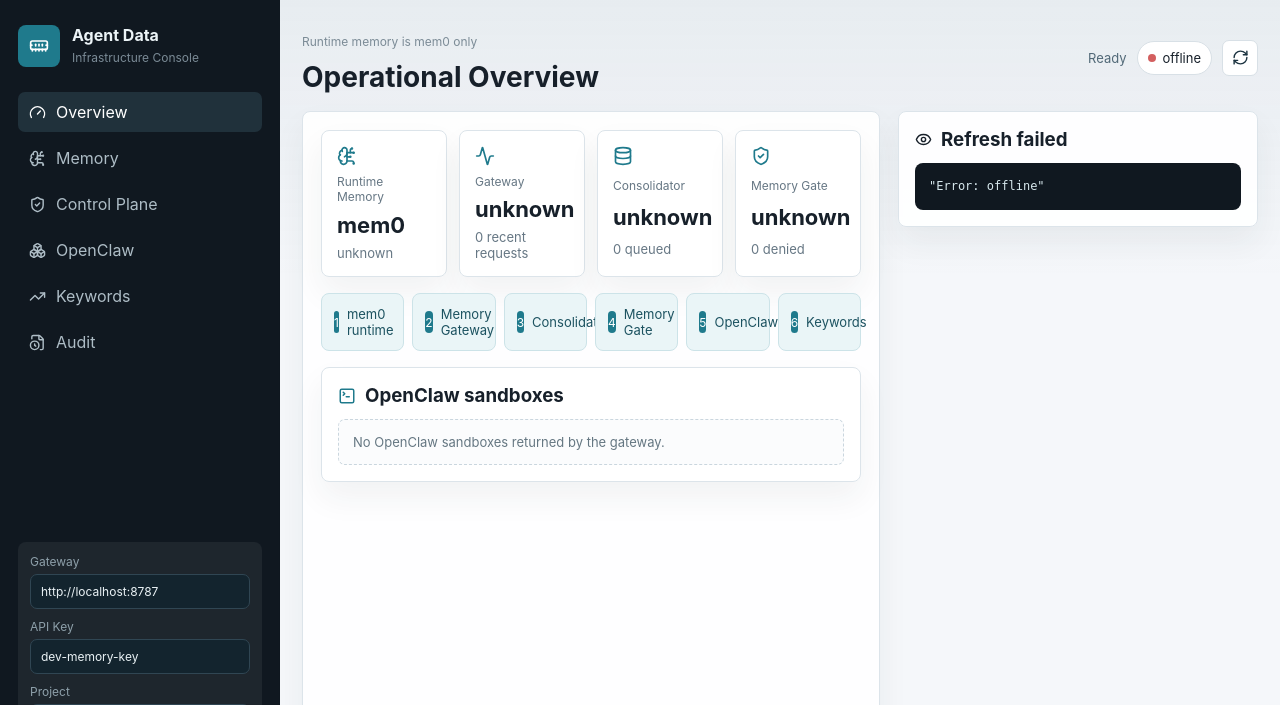
Test: App › opens the OpenClaw sandbox management tab
Click the button "OpenClaw": [140, 250] box [18,230,262,270]
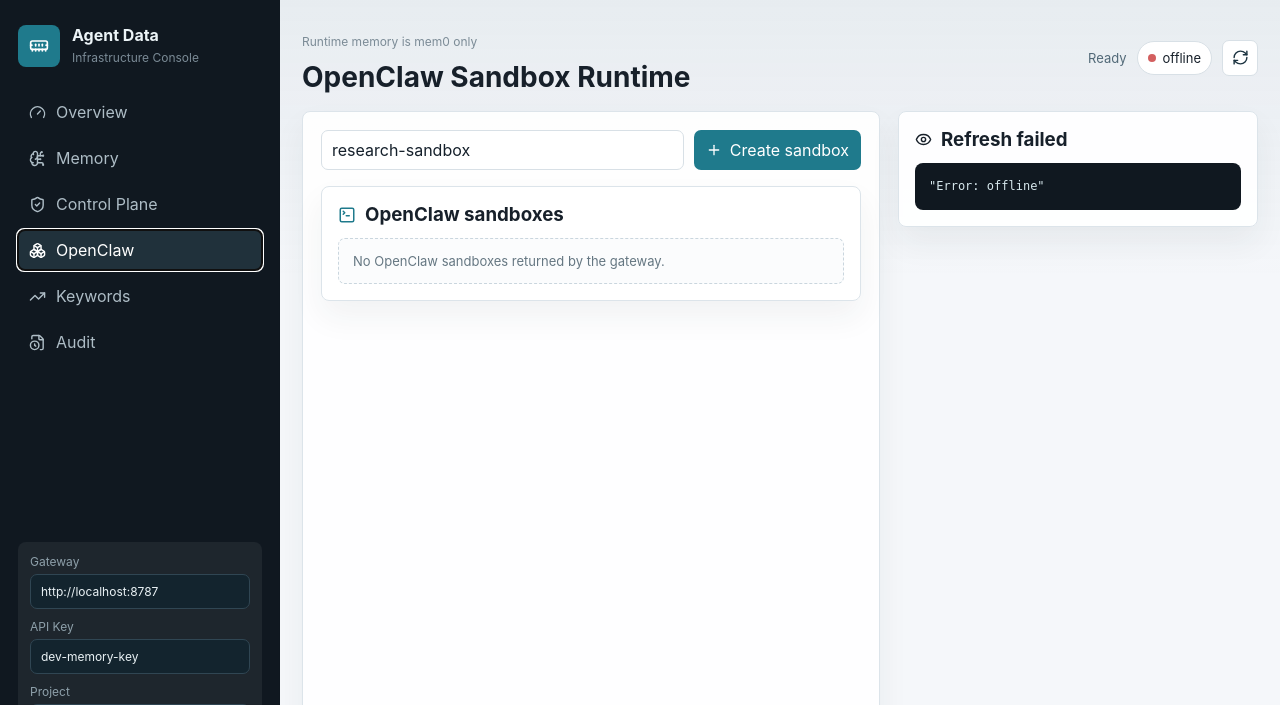
Check: the heading "OpenClaw Sandbox Runtime" is shown, box [302,61,690,93]
Check: the button "Create sandbox" is shown, box [694,130,861,170]
